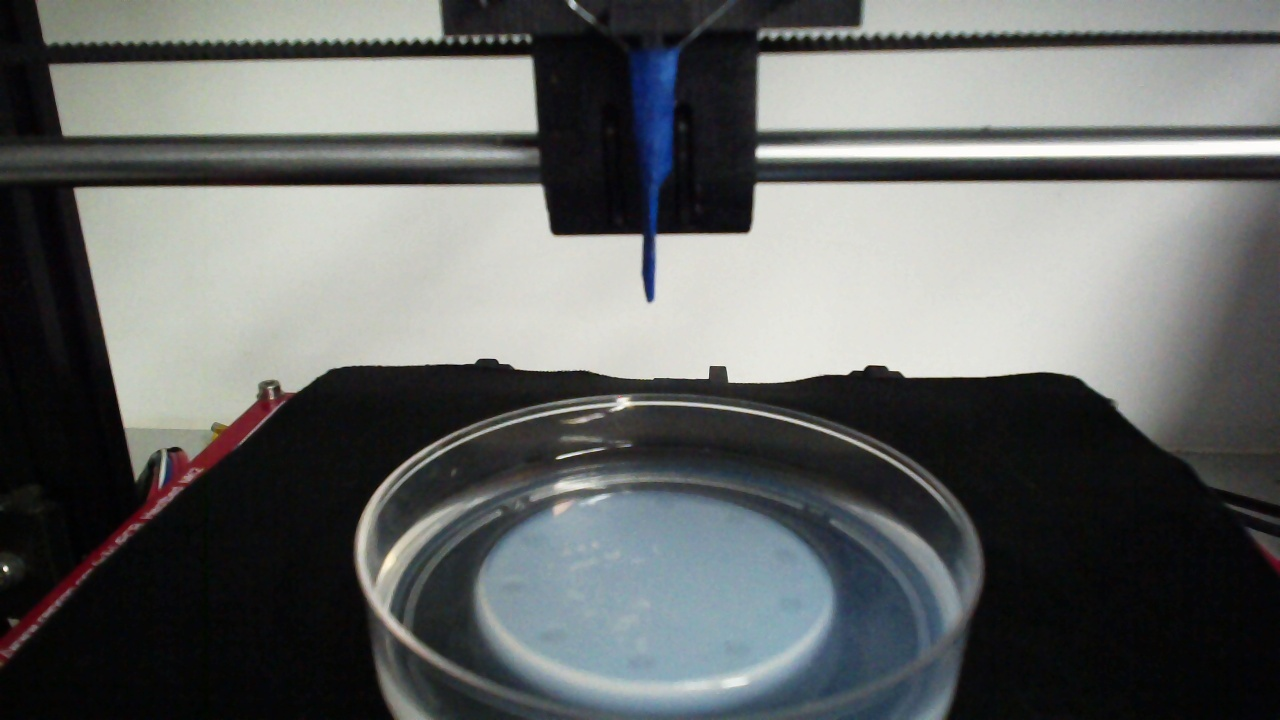groove: (773, 548, 799, 568), (540, 627, 568, 645), (778, 596, 806, 614), (627, 654, 655, 670), (723, 640, 751, 656), (723, 509, 746, 526), (499, 579, 525, 594), (521, 534, 547, 549), (654, 494, 678, 509)
needle: (631, 50, 679, 302)
